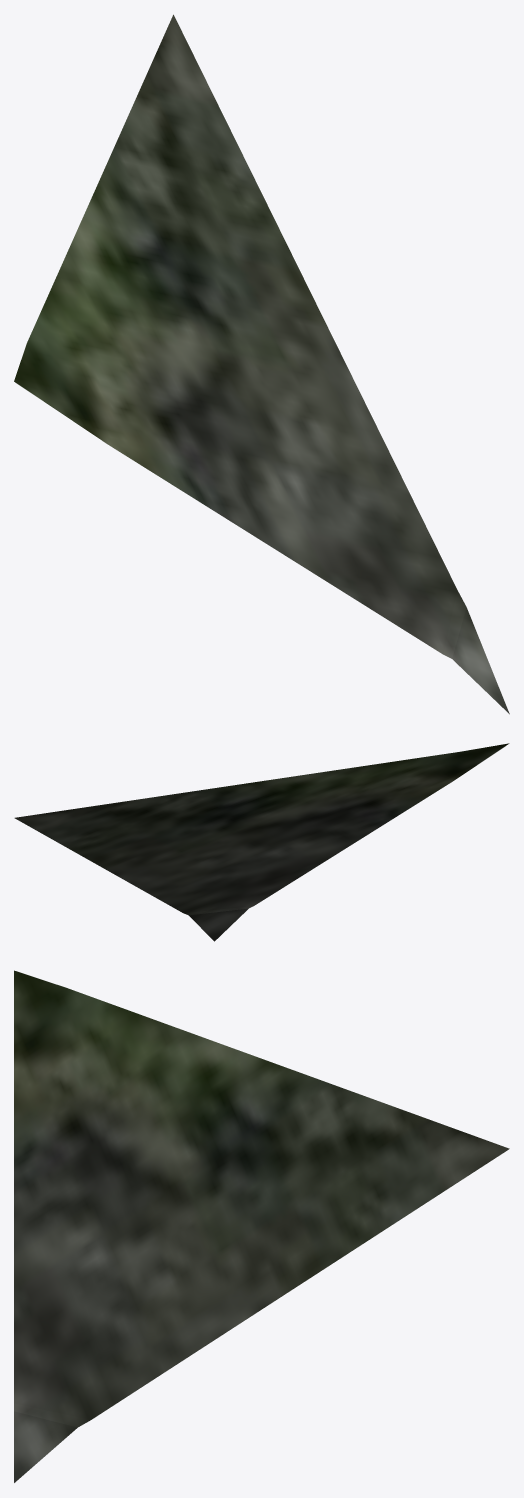
3 renders of one model, top to bottom at view 1: azimuth 30°, elevation 25°; view 2: azimuth 150°, elevation 25°; view 3: azimuth 270°, elevation 25°, orthographic. The views are drawn at different scales.
Size of the model in its own units: 1.54 by 1.35 by 1.81.
1 material, 1 textured.
